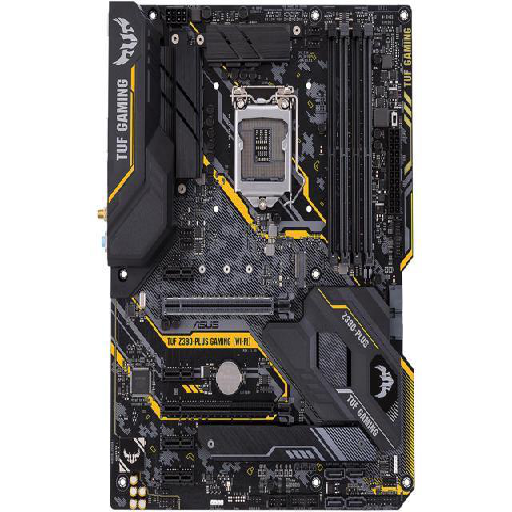CPU: (231, 86, 293, 213)
GPU: (162, 289, 295, 322), (159, 396, 296, 420)
MOTHERBOARD: (109, 3, 413, 509)
RAM: (325, 22, 376, 272)
SSD: (293, 252, 307, 288)
